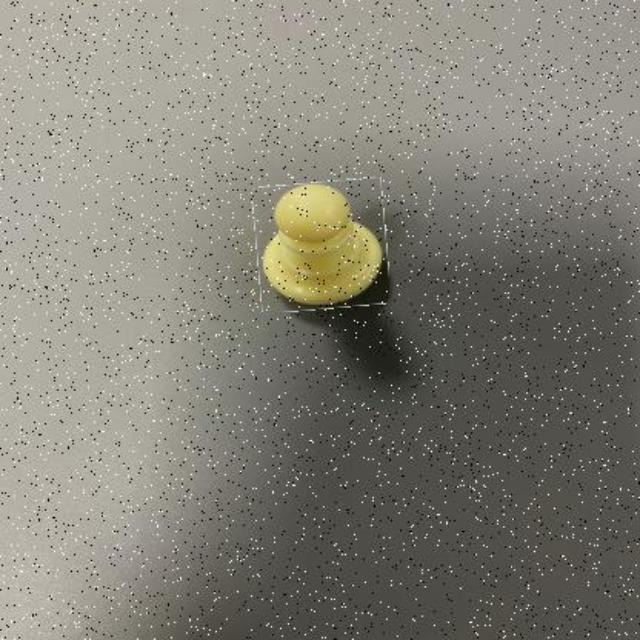white-pawn: (255, 181, 388, 311)
